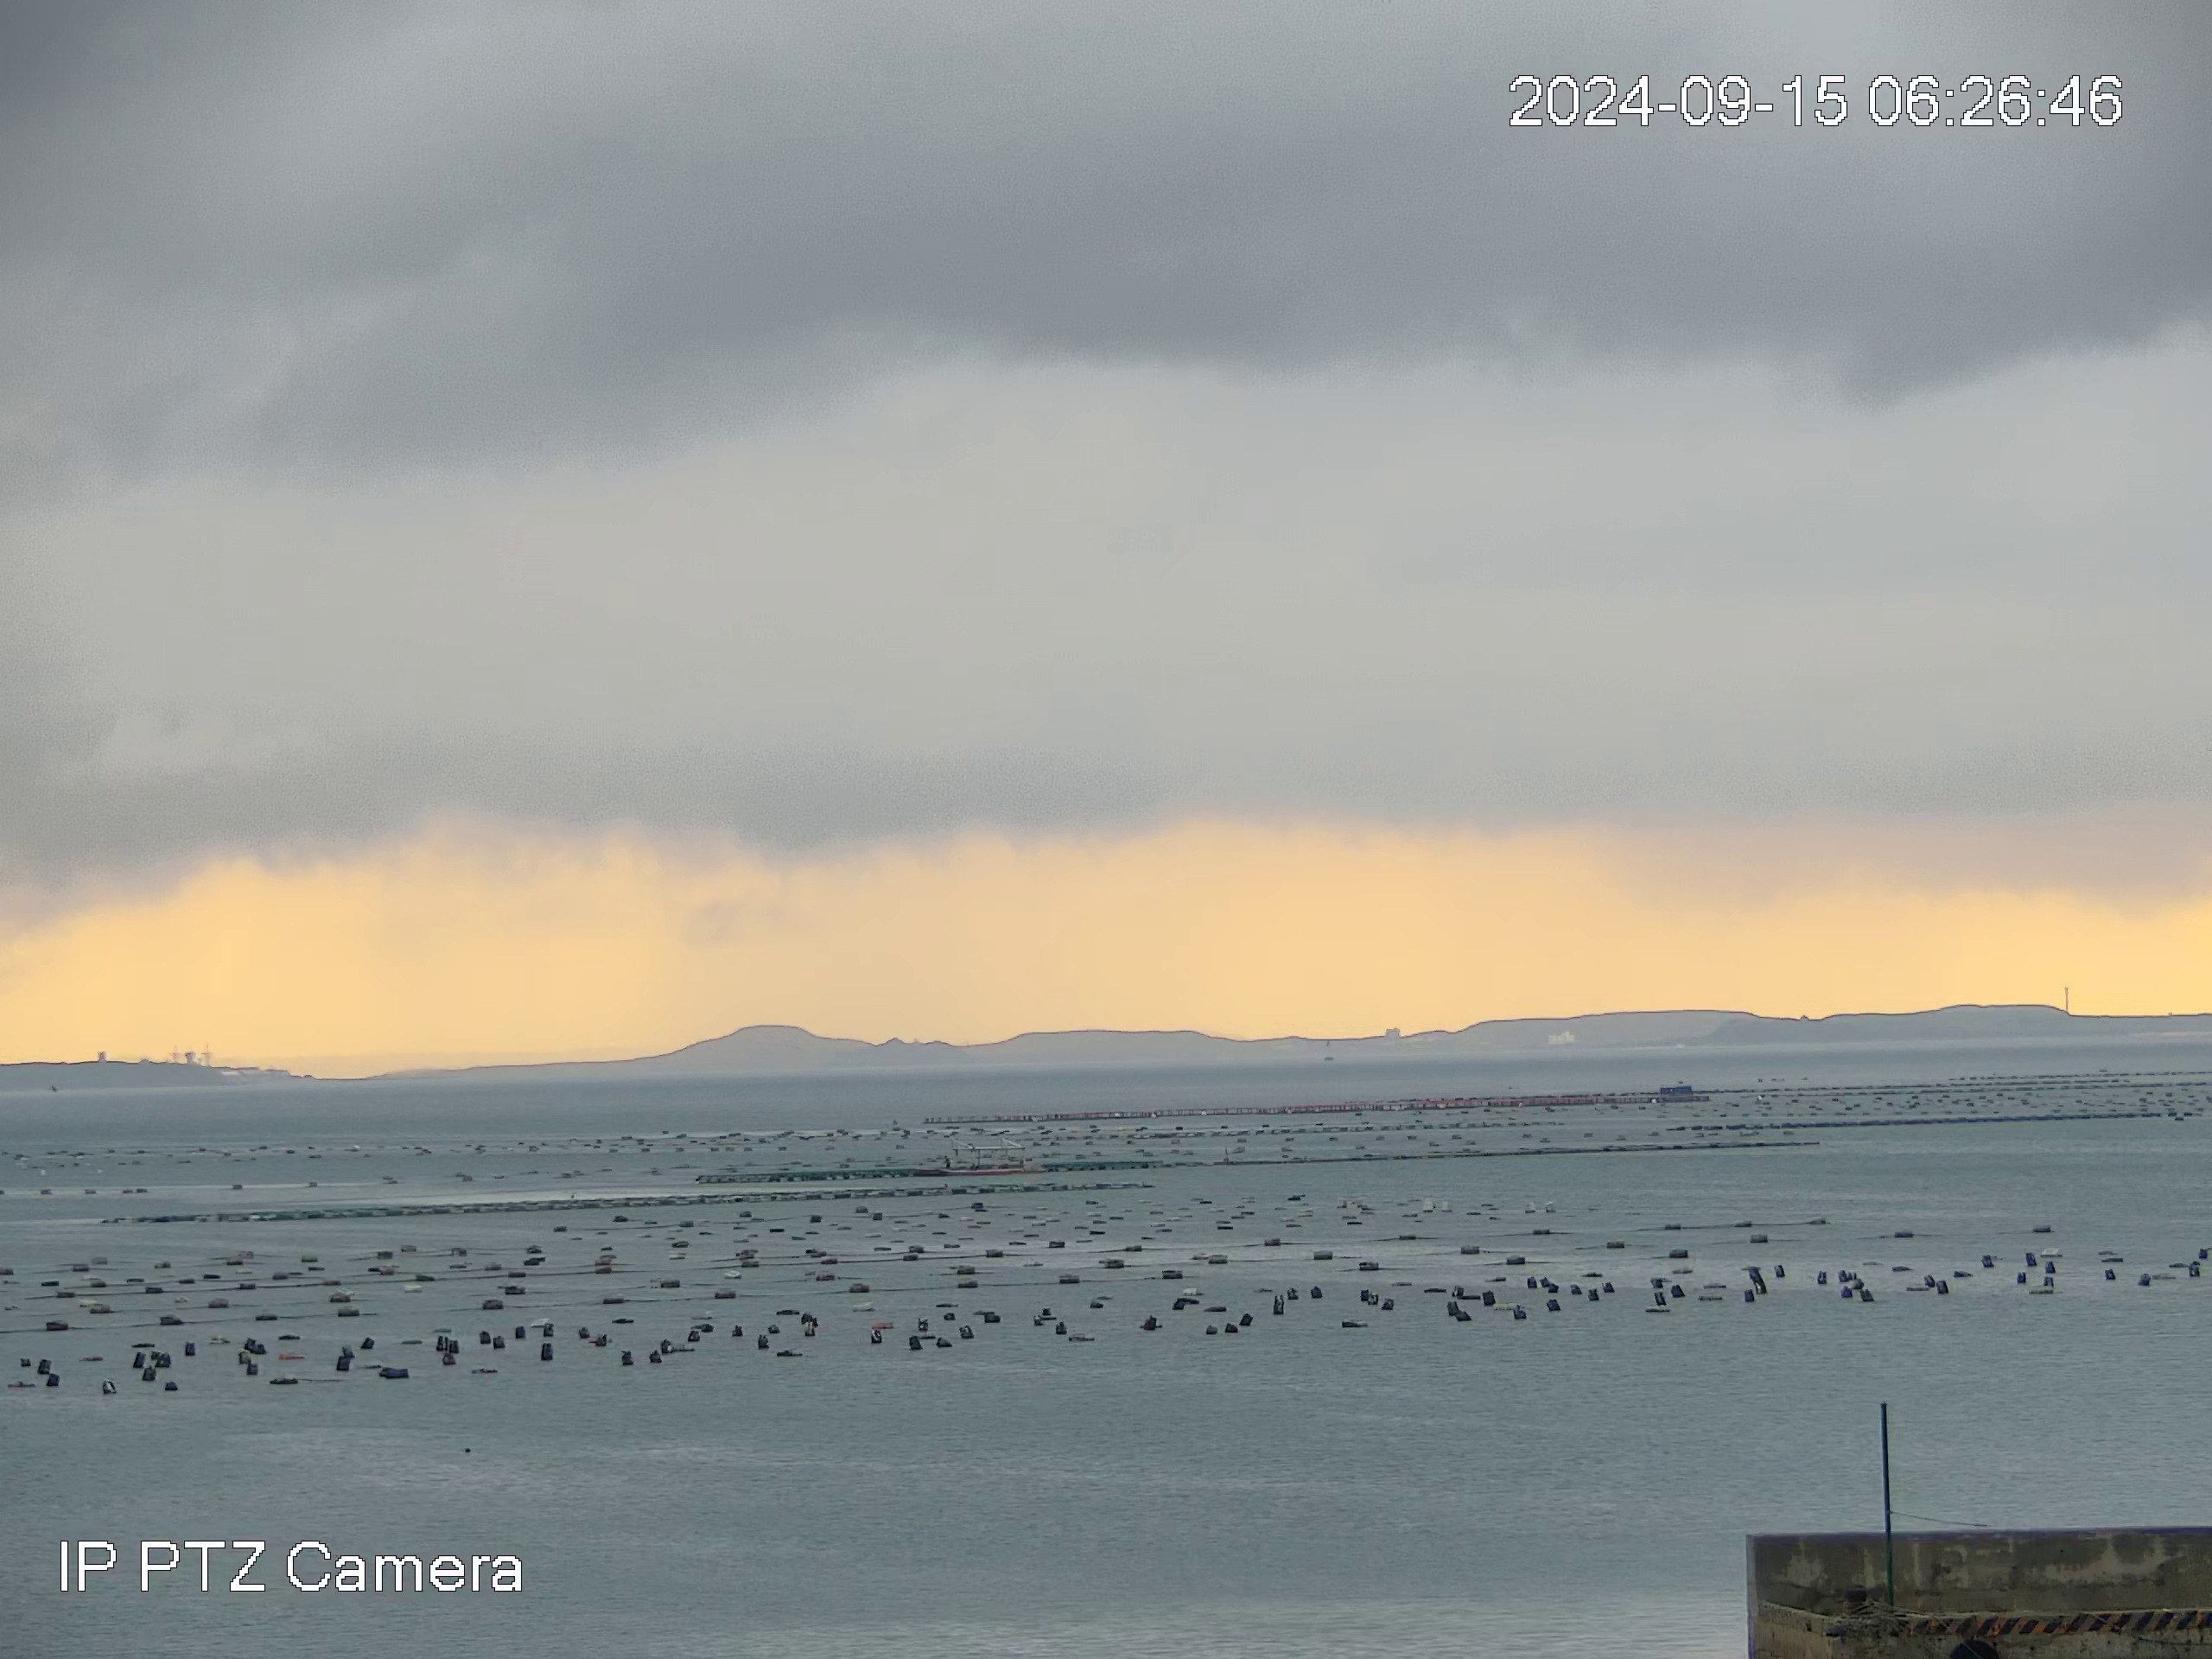boat: (934, 1133, 1049, 1176)
